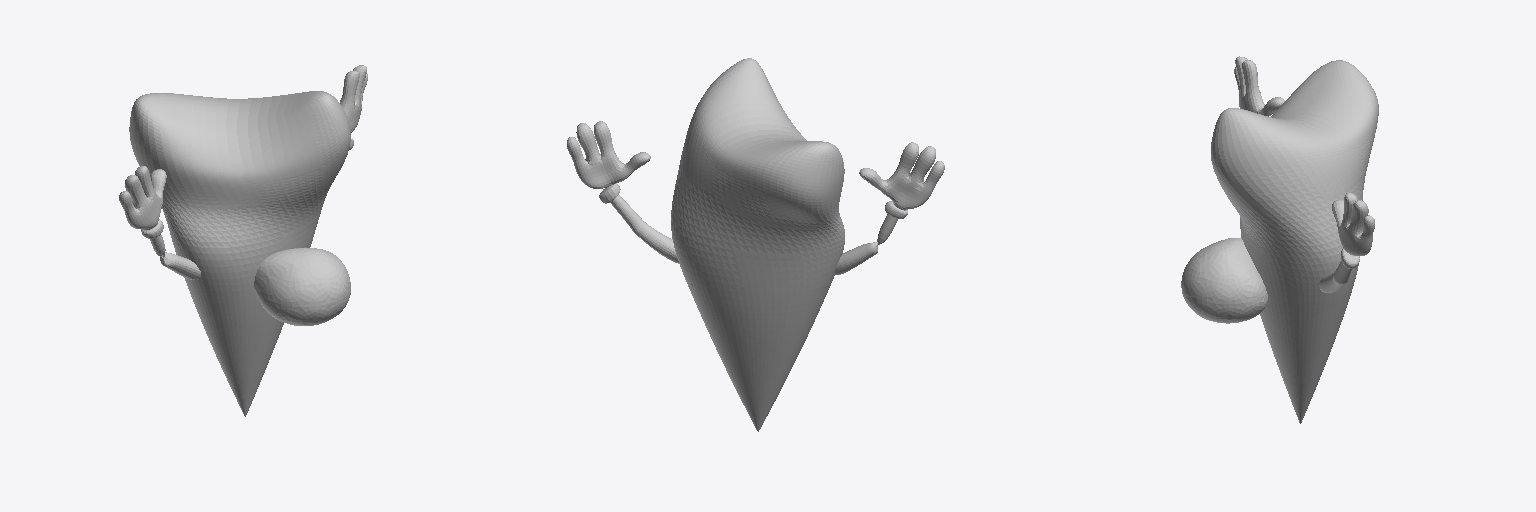
File: java-duke12.obj
3 renders of one model, left to right at view 1: azimuth 30°, elevation 25°; view 2: azimuth 150°, elevation 25°; view 3: azimuth 270°, elevation 25°, orthographic.
Parts seen in each view (by area): view 1: javadude, javadude_nase, javadude_hands; view 2: javadude, javadude_hands; view 3: javadude, javadude_nase, javadude_hands.
Part boxes in pixels (x1,y1,x2,y2): javadude: (129, 91, 350, 416); javadude_nase: (254, 247, 350, 325); javadude_hands: (119, 65, 367, 279); javadude: (671, 58, 844, 431); javadude_hands: (567, 121, 944, 274); javadude: (1211, 60, 1378, 423); javadude_nase: (1181, 238, 1267, 323); javadude_hands: (1234, 56, 1374, 292).
Bounding box in the file's own units: 3.86 × 3.98 × 2.12.